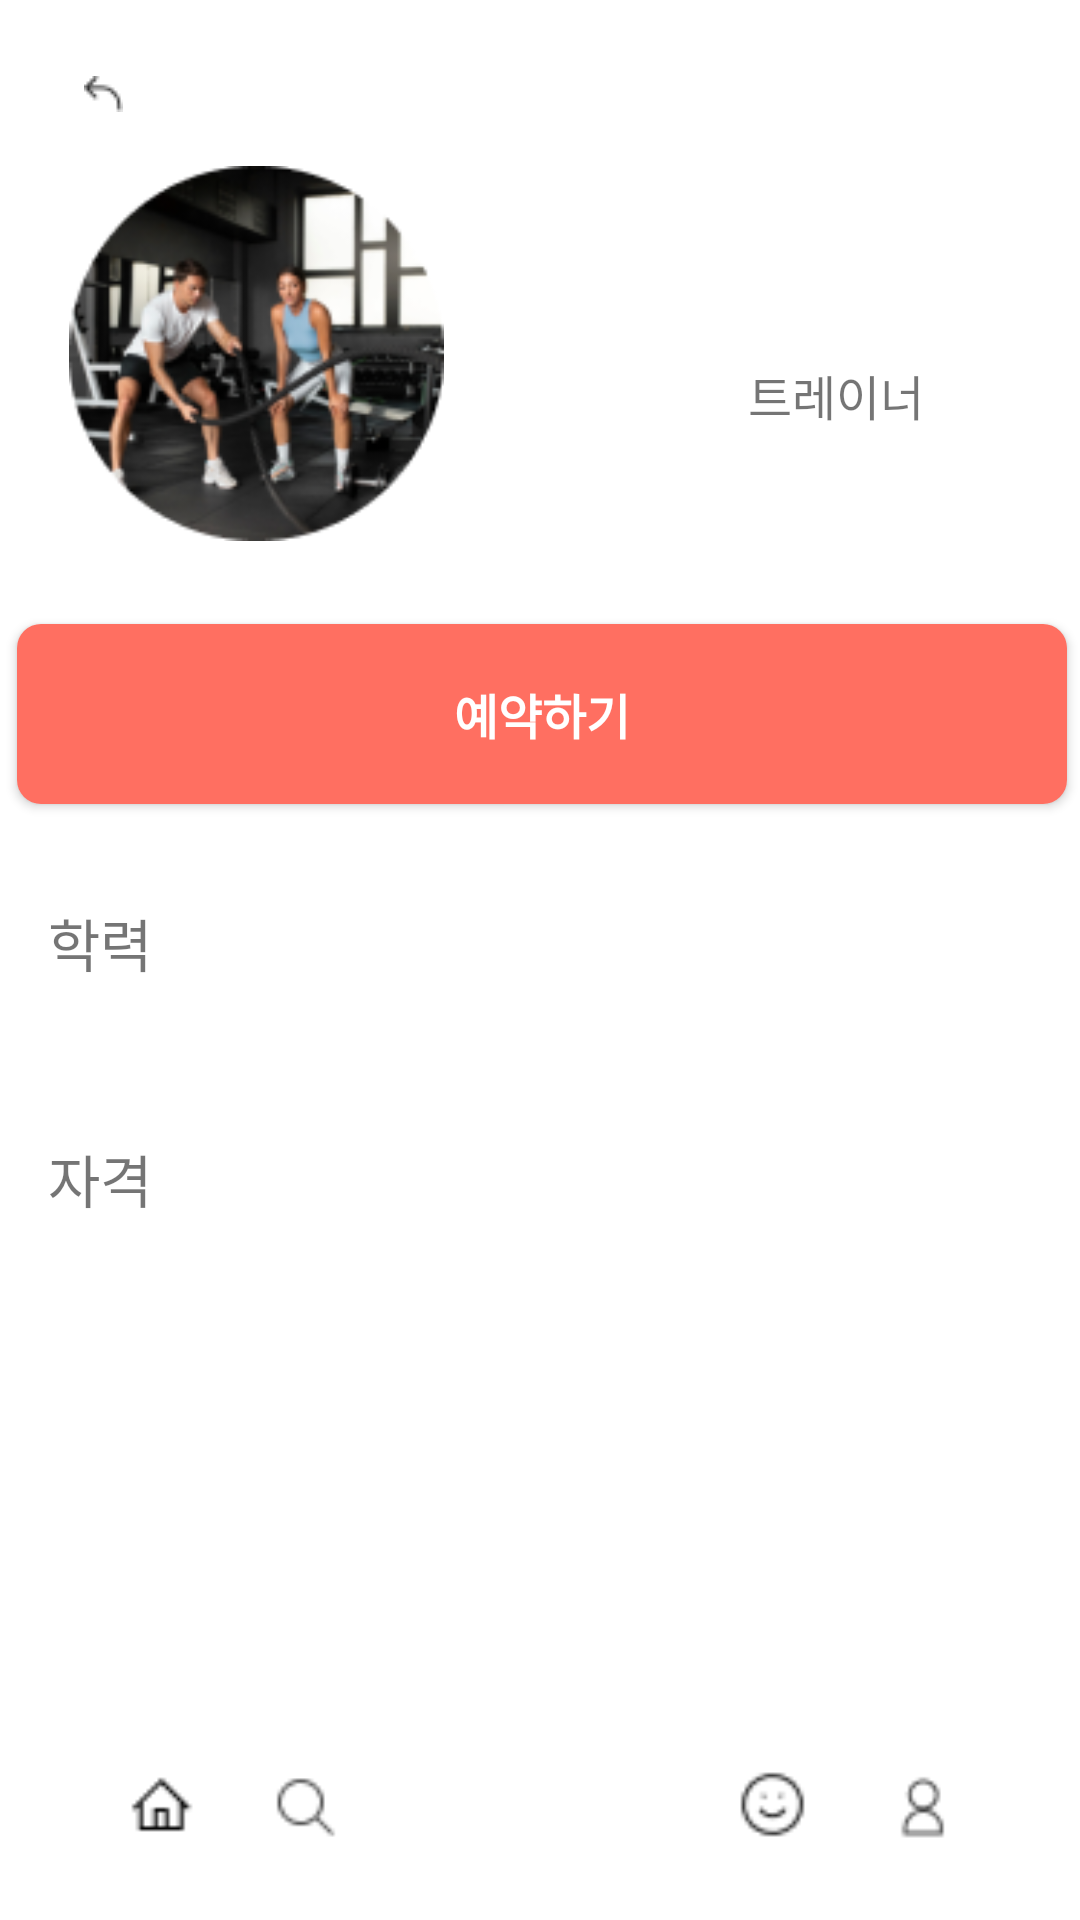

Icon bounding boxes for this 1080x1920 phone screenshot, format region(x1, y1, x2, y2):
back: region(84, 76, 123, 112)
home: region(131, 1778, 192, 1832)
profile: region(901, 1777, 944, 1837)
search: region(277, 1778, 335, 1836)
